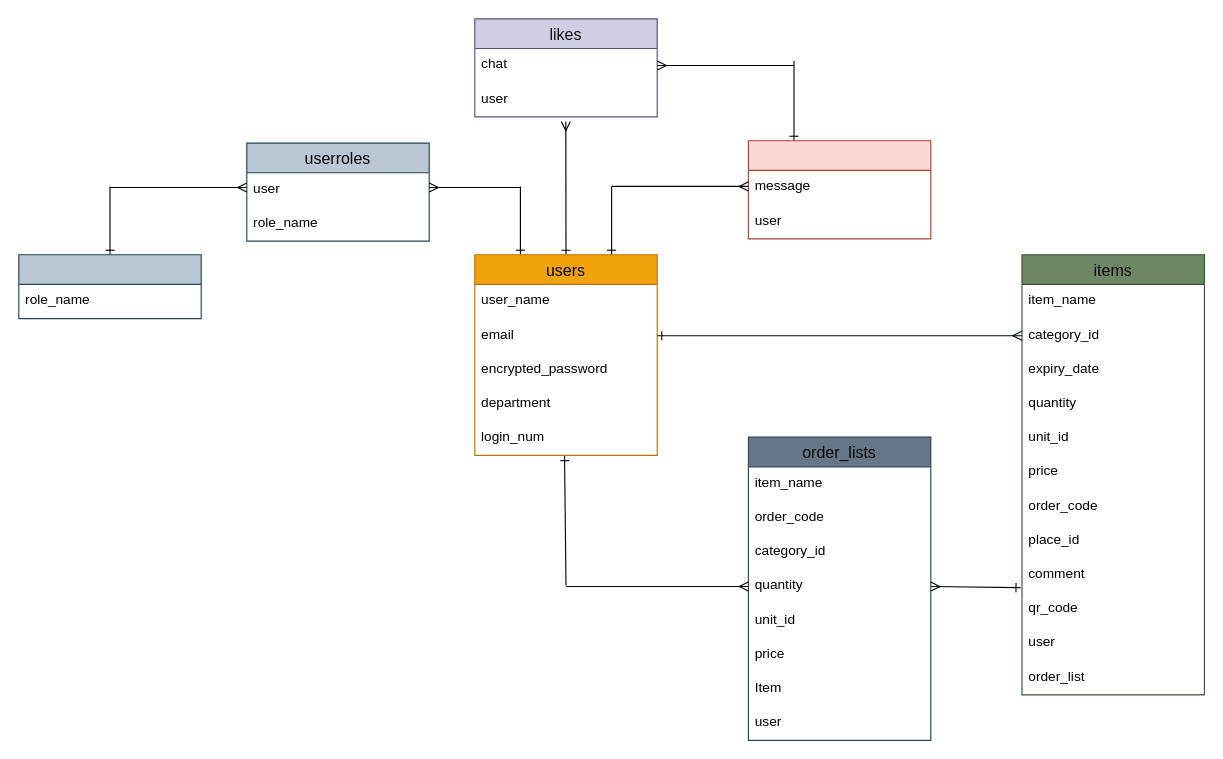
Image size: 1223x759. Some labels were removed from this diagram. Here are the shapes that lost their labels. From the top down, the box of each, then its label:
(747, 140, 931, 239): chats
(18, 254, 201, 319): roles
